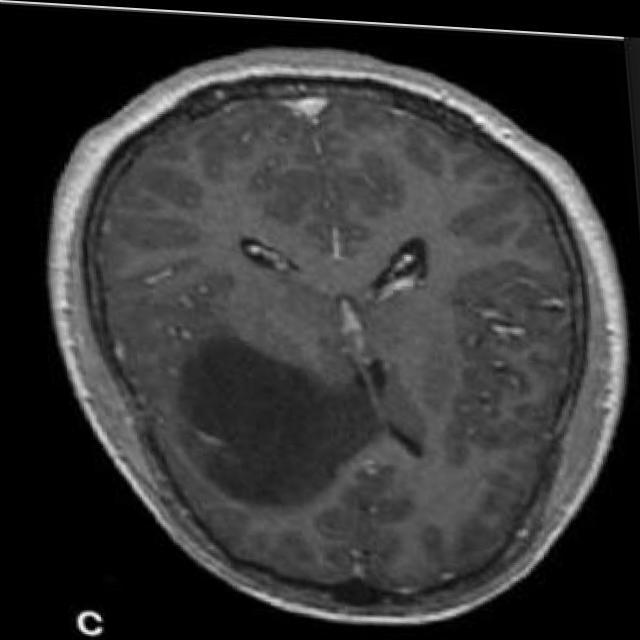Tumor: (168, 332, 371, 502)
